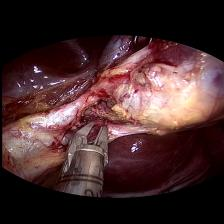Clipper: (60, 120, 116, 166)
